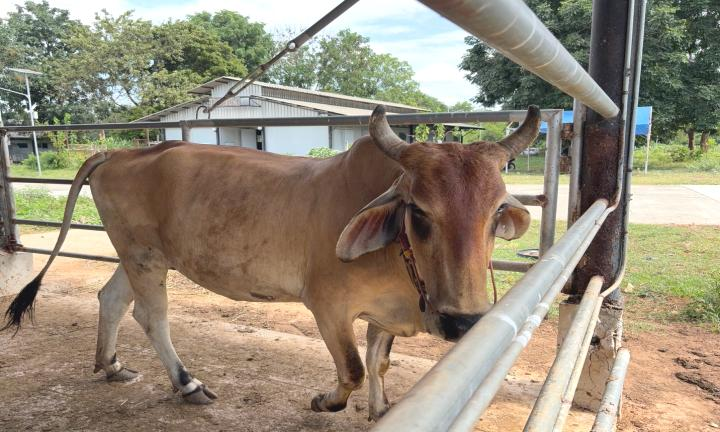Brahman: (6, 105, 540, 420)
